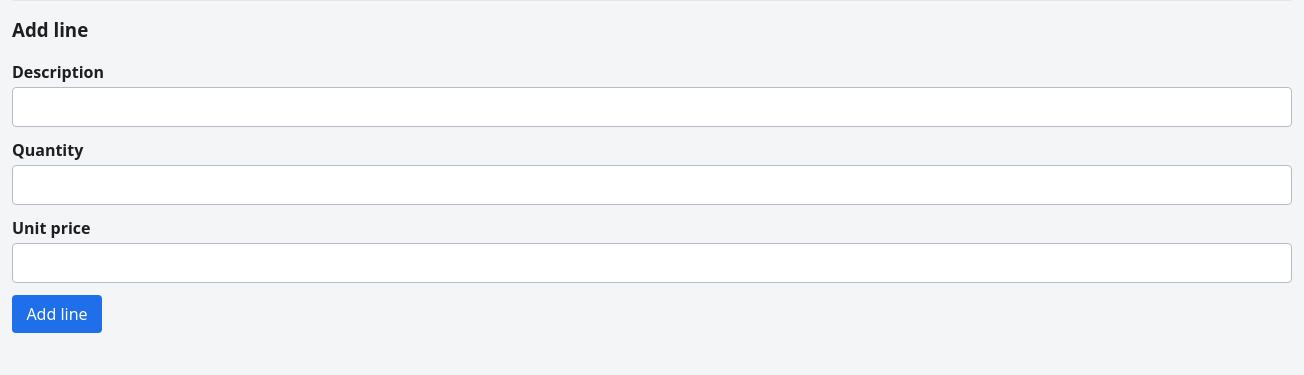
Test case: T-11 OrderLineForm › rejects blank description
The width and height of the screenshot is (1304, 375).
In the field labelled "Quantity": [652, 185] box [12, 165, 1292, 205], type "1"
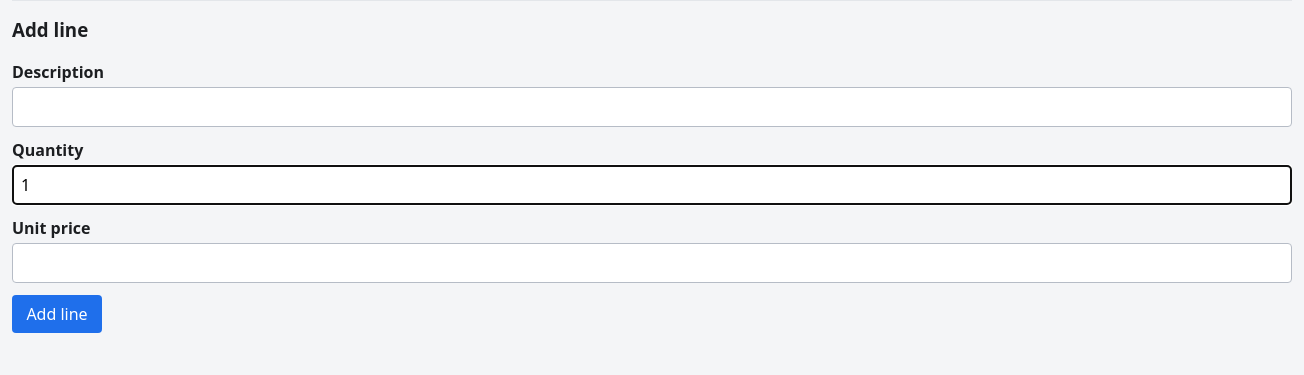
In the field labelled "Unit price": [652, 263] box [12, 243, 1292, 283], type "1"
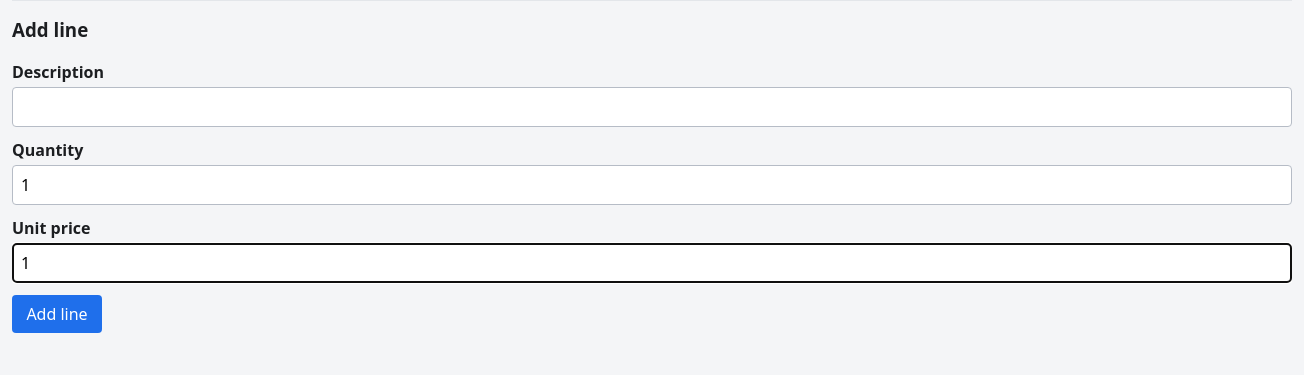
Click the button "Add line": [57, 314] box [12, 295, 102, 333]
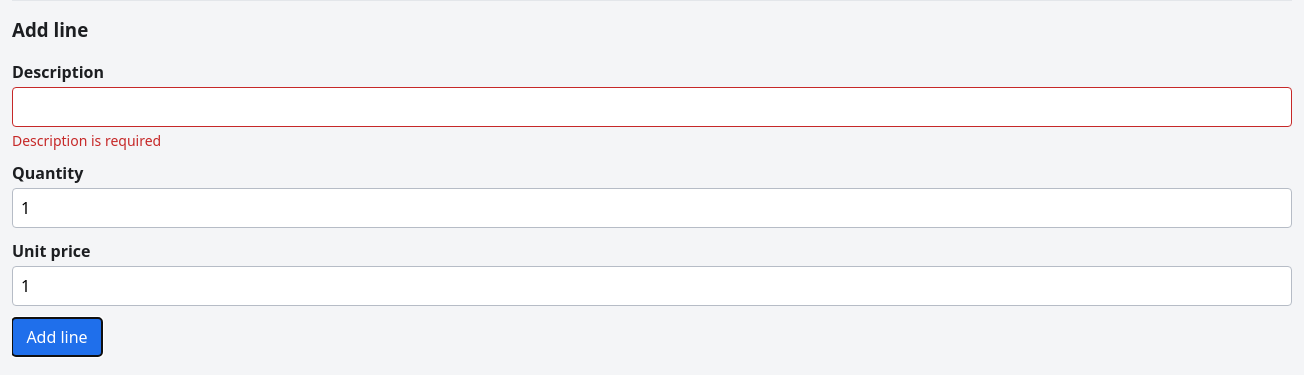
expect the text "Description is required" is shown: met, box [12, 131, 161, 150]
